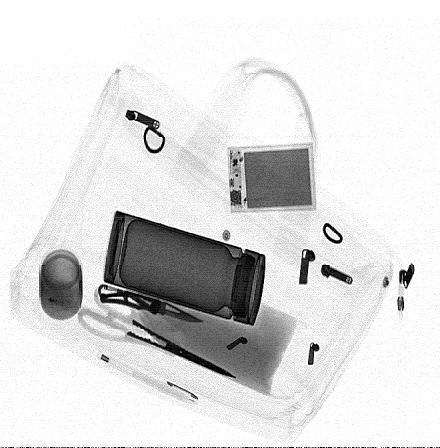Knife: (99, 285, 204, 321)
Powerbank: (228, 143, 317, 213)
Scissors: (77, 283, 242, 380)
